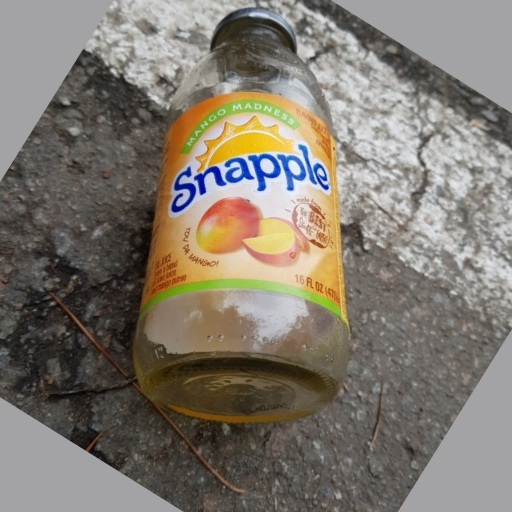Glass_4: (127, 8, 351, 422)
